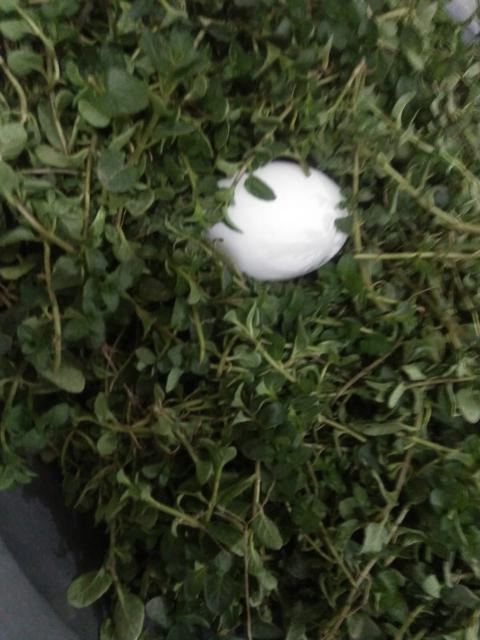Sano: (201, 160, 349, 277)
